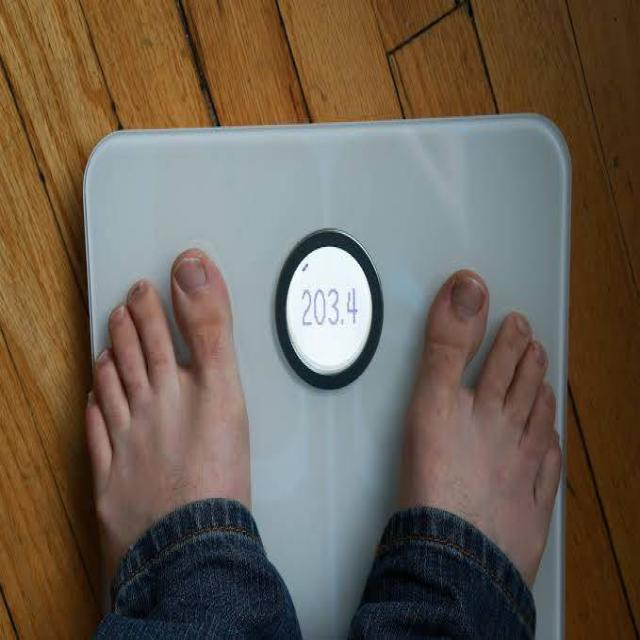ws: (225, 142, 386, 396)
